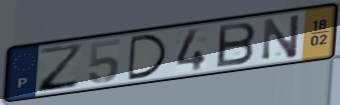4: (175, 27, 209, 73)
5: (86, 37, 122, 85)
B: (215, 20, 258, 69)
D: (127, 32, 171, 82)
N: (261, 12, 303, 62)
Z: (38, 41, 85, 94)
